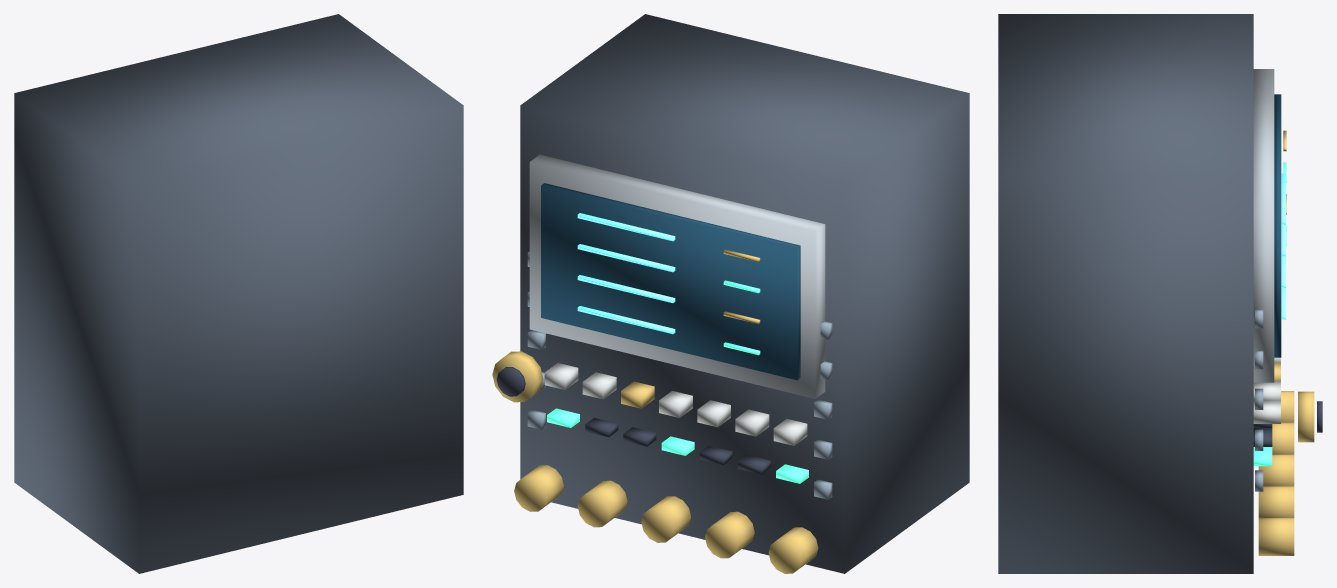
The model's file is L86_81_RoboticServicingEventRecorder_Fitted.fbx.
3 views of the same model, side by side, from view 1: azimuth 30°, elevation 25°; view 2: azimuth 150°, elevation 25°; view 3: azimuth 270°, elevation 25° (orthographic). The views are drawn at different scales.
Parts seen in each view (by area): view 1: L86_RoboticServicingEventRecorder_Static__tint1F2633; view 2: L86_RoboticServicingEventRecorder_Static__tint1F2633, L86_RoboticServicingEventRecorder_Static__tint061D36, L86_RoboticServicingEventRecorder_Static__tintA1B2C2, L86_RoboticServicingEventRecorder_Static__tintF2B038, L86_RoboticServicingEventRecorder_Static__tintD9E0E0, L86_RoboticServicingEventRecorder_Static__tint0F141F, L86_RoboticServicingEventRecorder_Static__tint29D4F5, L86_RoboticServicingEventRecorder_Static__tint597591, L86_RoboticServicingEventRecorder_Static__tint1AE88F; view 3: L86_RoboticServicingEventRecorder_Static__tint1F2633, L86_RoboticServicingEventRecorder_Static__tintA1B2C2, L86_RoboticServicingEventRecorder_Static__tintF2B038, L86_RoboticServicingEventRecorder_Static__tint061D36, L86_RoboticServicingEventRecorder_Static__tintD9E0E0, L86_RoboticServicingEventRecorder_Static__tint597591, L86_RoboticServicingEventRecorder_Static__tint29D4F5, L86_RoboticServicingEventRecorder_Static__tint0F141F, L86_RoboticServicingEventRecorder_Static__tint1AE88F.
Part boxes in pixels (x1=…): L86_RoboticServicingEventRecorder_Static__tint1F2633: x1=14, y1=14, x2=463, y2=573; L86_RoboticServicingEventRecorder_Static__tint1F2633: x1=520, y1=14, x2=969, y2=573; L86_RoboticServicingEventRecorder_Static__tint061D36: x1=541, y1=183, x2=800, y2=380; L86_RoboticServicingEventRecorder_Static__tintA1B2C2: x1=529, y1=154, x2=825, y2=398; L86_RoboticServicingEventRecorder_Static__tintF2B038: x1=492, y1=249, x2=818, y2=573; L86_RoboticServicingEventRecorder_Static__tintD9E0E0: x1=544, y1=363, x2=807, y2=445; L86_RoboticServicingEventRecorder_Static__tint0F141F: x1=496, y1=367, x2=770, y2=474; L86_RoboticServicingEventRecorder_Static__tint29D4F5: x1=577, y1=213, x2=675, y2=334; L86_RoboticServicingEventRecorder_Static__tint597591: x1=527, y1=251, x2=832, y2=499; L86_RoboticServicingEventRecorder_Static__tint1AE88F: x1=547, y1=280, x2=808, y2=483; L86_RoboticServicingEventRecorder_Static__tint1F2633: x1=998, y1=14, x2=1253, y2=573; L86_RoboticServicingEventRecorder_Static__tintA1B2C2: x1=1253, y1=69, x2=1274, y2=382; L86_RoboticServicingEventRecorder_Static__tintF2B038: x1=1258, y1=130, x2=1314, y2=555; L86_RoboticServicingEventRecorder_Static__tint061D36: x1=1274, y1=94, x2=1281, y2=357; L86_RoboticServicingEventRecorder_Static__tintD9E0E0: x1=1253, y1=357, x2=1280, y2=423; L86_RoboticServicingEventRecorder_Static__tint597591: x1=1255, y1=310, x2=1263, y2=491; L86_RoboticServicingEventRecorder_Static__tint29D4F5: x1=1281, y1=173, x2=1285, y2=319; L86_RoboticServicingEventRecorder_Static__tint0F141F: x1=1253, y1=401, x2=1322, y2=446; L86_RoboticServicingEventRecorder_Static__tint1AE88F: x1=1253, y1=162, x2=1286, y2=466.
Bounding box in the file's own units: 9.4 × 10.78 × 7.95.
